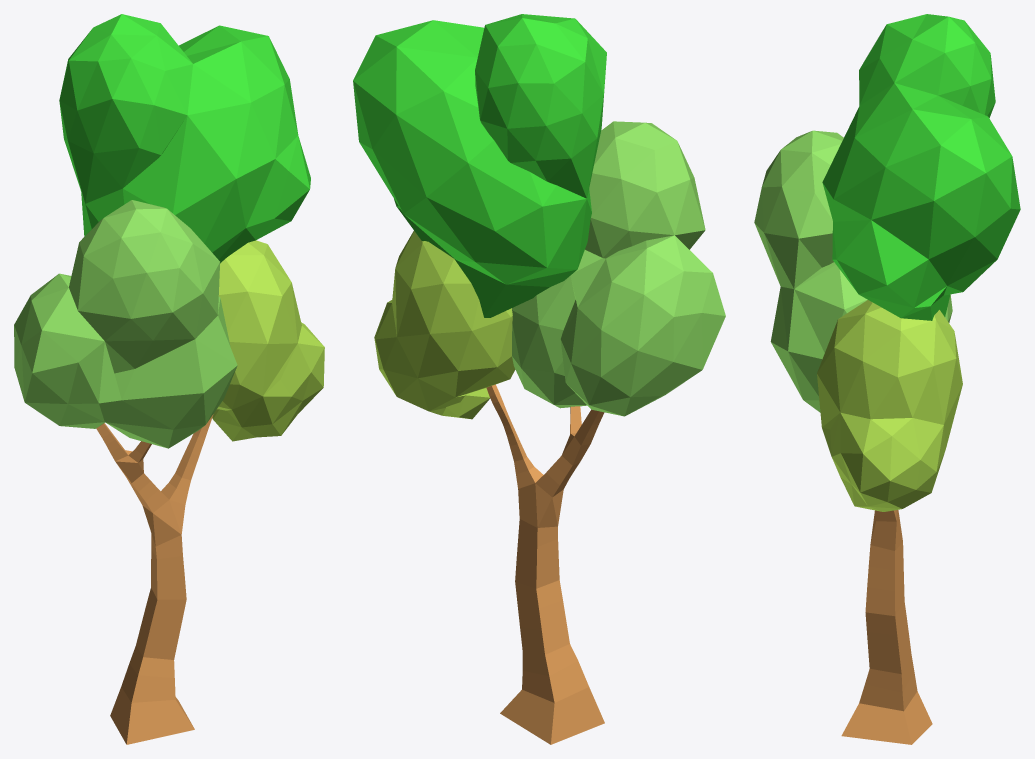
The model's file is Pohon.fbx.
3 renders of one model, left to right at view 1: azimuth 30°, elevation 25°; view 2: azimuth 150°, elevation 25°; view 3: azimuth 270°, elevation 25°, orthographic. The views are drawn at different scales.
Visible parts, largest first — view 1: Icosphere.005, Icosphere.001, Icosphere, Cube; view 2: Icosphere.005, Icosphere.001, Cube, Icosphere; view 3: Icosphere.005, Icosphere, Icosphere.001, Cube.
Boxes of the visible parts, x1,y1,x2,y2 form: Icosphere.005: (59,14,310,263); Icosphere.001: (14,200,237,448); Icosphere: (212,240,324,441); Cube: (96,414,213,744); Icosphere.005: (353,14,606,317); Icosphere.001: (512,121,725,416); Cube: (486,384,604,744); Icosphere: (374,231,515,419); Icosphere.005: (822,14,1020,320); Icosphere: (817,300,962,511); Icosphere.001: (754,130,952,412); Cube: (841,510,932,744).
Size of the model in its own units: 387 by 824 by 277.
